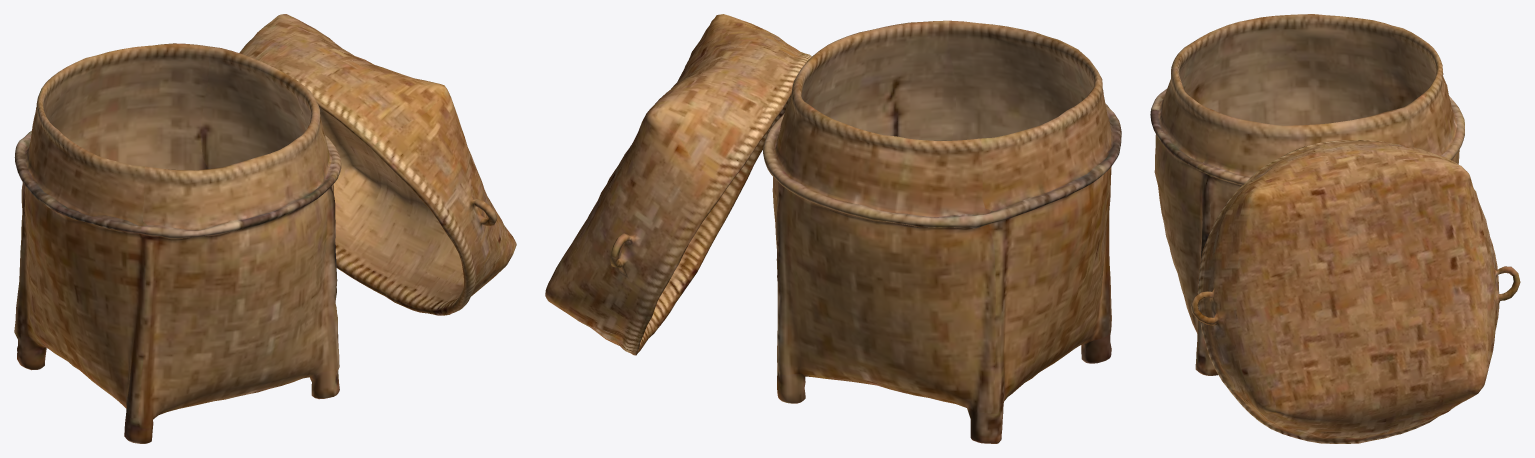
Rendered from wicker_basket_02.glb.
3 views of the same model, side by side, from view 1: azimuth 30°, elevation 25°; view 2: azimuth 150°, elevation 25°; view 3: azimuth 270°, elevation 25° (orthographic). The views are drawn at different scales.
Parts seen in each view (by area): view 1: wicker_basket_02_base; view 2: wicker_basket_02_base; view 3: wicker_basket_02_base.
Boxes of the visible parts, x1,y1,x2,y2 form: wicker_basket_02_base: [14, 14, 516, 443]; wicker_basket_02_base: [545, 14, 1121, 443]; wicker_basket_02_base: [1150, 14, 1520, 443].
Size of the model in its own units: 0.3469 by 0.2005 by 0.2545.
Materials: 1 (1 with a texture image).
